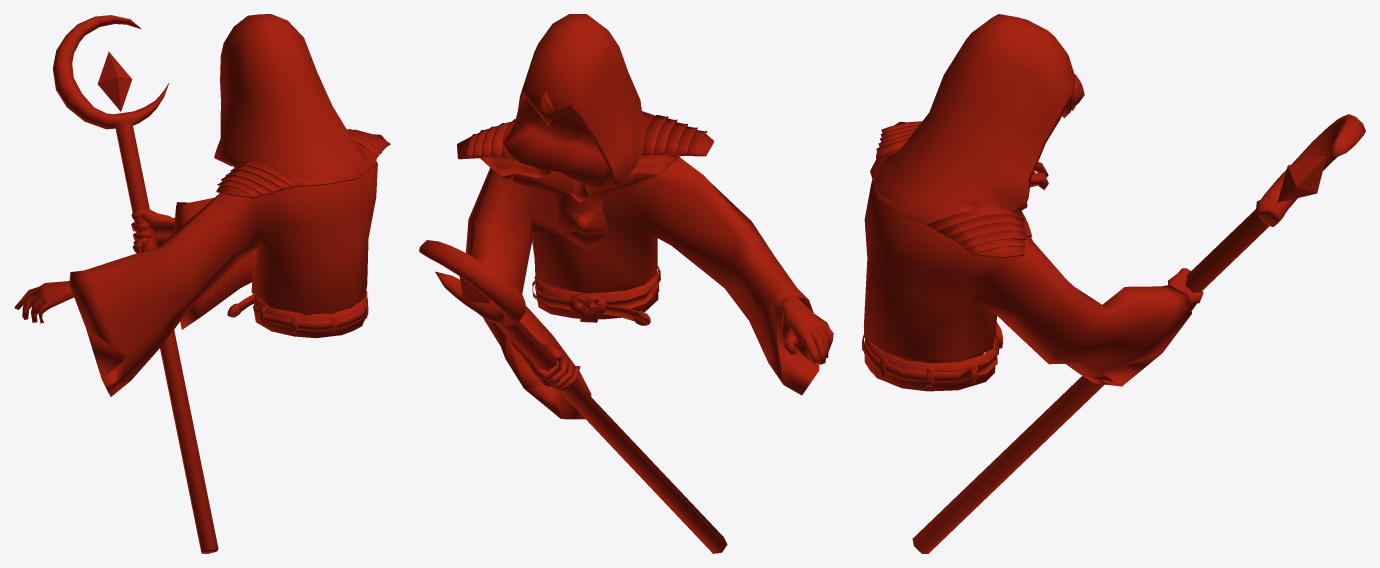
File: top_000061.obj
3 views of the same model, side by side, from view 1: azimuth 30°, elevation 25°; view 2: azimuth 150°, elevation 25°; view 3: azimuth 270°, elevation 25° (orthographic). The views are drawn at different scales.
Visible parts, largest first — view 1: LowPoly_Warlock.000_Plane.005; view 2: LowPoly_Warlock.000_Plane.005; view 3: LowPoly_Warlock.000_Plane.005.
Boxes of the visible parts, box(x1,y1,x2,y2) form: LowPoly_Warlock.000_Plane.005: box(14, 14, 390, 553); LowPoly_Warlock.000_Plane.005: box(419, 14, 833, 553); LowPoly_Warlock.000_Plane.005: box(862, 14, 1365, 553).
Bounding box in the file's own units: 1.36 × 1.83 × 1.42.
